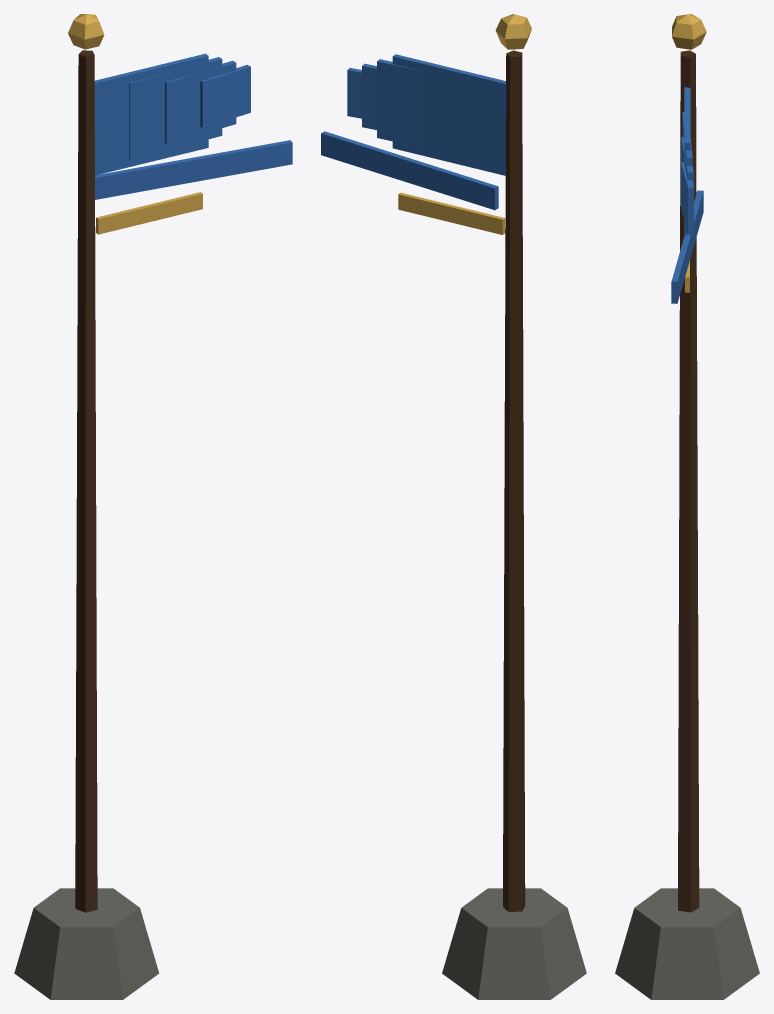
Rendered from prop_obangki_blue.glb.
3 renders of one model, left to right at view 1: azimuth 30°, elevation 25°; view 2: azimuth 150°, elevation 25°; view 3: azimuth 270°, elevation 25°, orthographic.
Visible parts, largest first — view 1: prop_obangki_blue; view 2: prop_obangki_blue; view 3: prop_obangki_blue.
Boxes of the visible parts, x1=… form: prop_obangki_blue: x1=14, y1=14, x2=292, y2=999; prop_obangki_blue: x1=321, y1=14, x2=586, y2=999; prop_obangki_blue: x1=615, y1=14, x2=759, y2=999.
Bounding box in the file's own units: 1.21 × 4.38 × 0.6.
